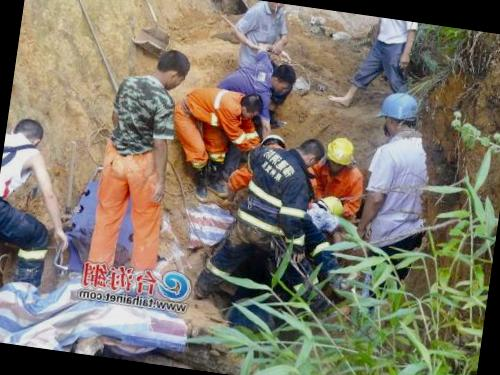no_helmet: (147, 45, 194, 99), (10, 110, 48, 154), (268, 57, 302, 95), (292, 135, 326, 170), (236, 90, 264, 118)
